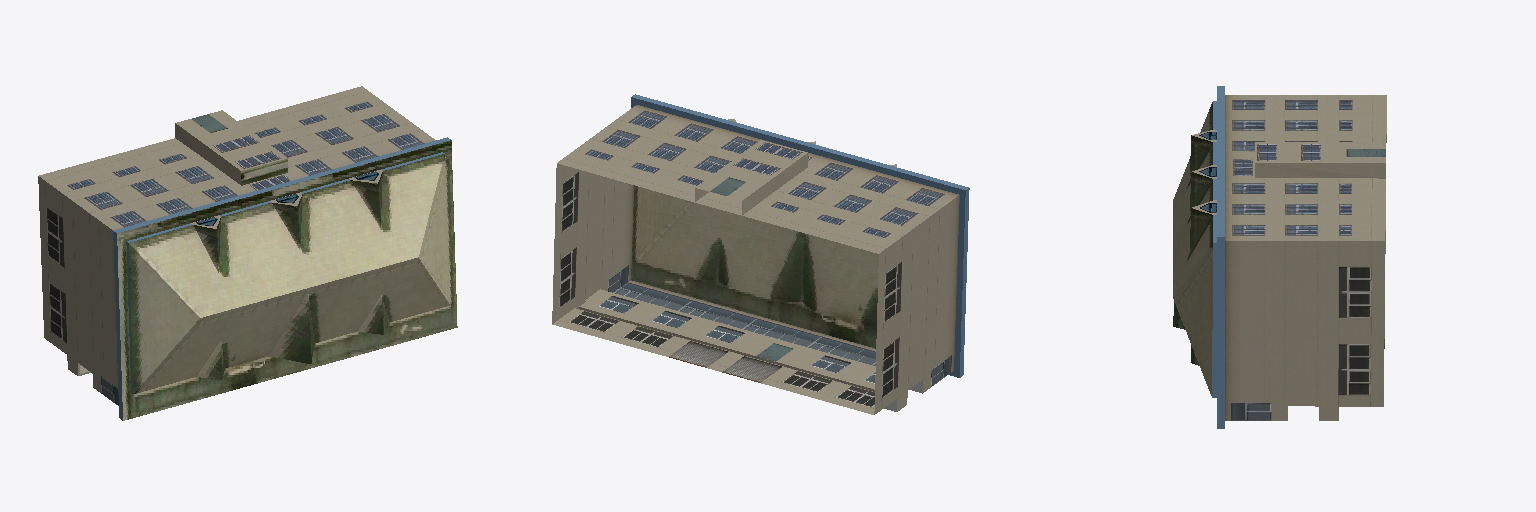
3 views of the same model, side by side, from view 1: azimuth 30°, elevation 25°; view 2: azimuth 150°, elevation 25°; view 3: azimuth 270°, elevation 25° (orthographic).
Visible parts, largest first — view 1: Group_MatrixTransform_i96190_Geometry_17, Group_MatrixTransform_i96190_Geometry_19, Group_MatrixTransform_i96190_Geometry_6, Group_MatrixTransform_i96190_Geometry_9, Group_MatrixTransform_i96190_Geometry_11, Group_MatrixTransform_i96190_Geometry_7, Group_MatrixTransform_i96190_Geometry_8, Group_MatrixTransform_i96190_Geometry_12, Group_MatrixTransform_i96190_Geometry_15, Group_MatrixTransform_i96190_Geometry_14, Group_MatrixTransform_i96190_Geometry_0, Group_MatrixTransform_i96190_Geometry_13 (+2 smaller); view 2: Group_MatrixTransform_i96190_Geometry_19, Group_MatrixTransform_i96190_Geometry_7, Group_MatrixTransform_i96190_Geometry_8, Group_MatrixTransform_i96190_Geometry_6, Group_MatrixTransform_i96190_Geometry_11, Group_MatrixTransform_i96190_Geometry_9, Group_MatrixTransform_i96190_Geometry_12, Group_MatrixTransform_i96190_Geometry_1, Group_MatrixTransform_i96190_Geometry_15, Group_MatrixTransform_i96190_Geometry_3, Group_MatrixTransform_i96190_Geometry_4, Group_MatrixTransform_i96190_Geometry_0 (+3 smaller); view 3: Group_MatrixTransform_i96190_Geometry_7, Group_MatrixTransform_i96190_Geometry_8, Group_MatrixTransform_i96190_Geometry_12, Group_MatrixTransform_i96190_Geometry_17, Group_MatrixTransform_i96190_Geometry_11, Group_MatrixTransform_i96190_Geometry_6, Group_MatrixTransform_i96190_Geometry_9, Group_MatrixTransform_i96190_Geometry_15, Group_MatrixTransform_i96190_Geometry_13, Group_MatrixTransform_i96190_Geometry_14, Group_MatrixTransform_i96190_Geometry_2, Group_MatrixTransform_i96190_Geometry_0 (+2 smaller).
Boxes of the visible parts, box(x1,y1,x2,y2) form: Group_MatrixTransform_i96190_Geometry_17: box(129, 154, 449, 393); Group_MatrixTransform_i96190_Geometry_19: box(117, 140, 457, 420); Group_MatrixTransform_i96190_Geometry_6: box(39, 86, 387, 195); Group_MatrixTransform_i96190_Geometry_9: box(67, 106, 414, 215); Group_MatrixTransform_i96190_Geometry_11: box(93, 125, 435, 230); Group_MatrixTransform_i96190_Geometry_7: box(38, 176, 70, 356); Group_MatrixTransform_i96190_Geometry_8: box(66, 147, 228, 376); Group_MatrixTransform_i96190_Geometry_12: box(93, 216, 117, 387); Group_MatrixTransform_i96190_Geometry_15: box(113, 137, 450, 420); Group_MatrixTransform_i96190_Geometry_14: box(201, 129, 286, 170); Group_MatrixTransform_i96190_Geometry_0: box(176, 110, 246, 140); Group_MatrixTransform_i96190_Geometry_13: box(67, 123, 240, 375); Group_MatrixTransform_i96190_Geometry_19: box(631, 185, 878, 348); Group_MatrixTransform_i96190_Geometry_7: box(552, 164, 906, 414); Group_MatrixTransform_i96190_Geometry_8: box(578, 171, 932, 394); Group_MatrixTransform_i96190_Geometry_6: box(557, 144, 905, 253); Group_MatrixTransform_i96190_Geometry_11: box(611, 105, 958, 213); Group_MatrixTransform_i96190_Geometry_9: box(584, 124, 932, 233); Group_MatrixTransform_i96190_Geometry_12: box(605, 178, 959, 371); Group_MatrixTransform_i96190_Geometry_1: box(579, 290, 875, 389); Group_MatrixTransform_i96190_Geometry_15: box(631, 94, 969, 377); Group_MatrixTransform_i96190_Geometry_3: box(614, 280, 875, 365); Group_MatrixTransform_i96190_Geometry_4: box(660, 338, 789, 384); Group_MatrixTransform_i96190_Geometry_0: box(696, 170, 814, 365); Group_MatrixTransform_i96190_Geometry_7: box(1331, 134, 1386, 406); Group_MatrixTransform_i96190_Geometry_8: box(1278, 178, 1377, 406); Group_MatrixTransform_i96190_Geometry_12: box(1225, 241, 1277, 402); Group_MatrixTransform_i96190_Geometry_17: box(1173, 102, 1212, 395); Group_MatrixTransform_i96190_Geometry_11: box(1225, 95, 1277, 240); Group_MatrixTransform_i96190_Geometry_6: box(1331, 95, 1386, 240); Group_MatrixTransform_i96190_Geometry_9: box(1278, 95, 1331, 240); Group_MatrixTransform_i96190_Geometry_15: box(1212, 86, 1224, 428); Group_MatrixTransform_i96190_Geometry_13: box(1255, 163, 1385, 420); Group_MatrixTransform_i96190_Geometry_14: box(1255, 142, 1334, 162); Group_MatrixTransform_i96190_Geometry_2: box(1225, 403, 1287, 420); Group_MatrixTransform_i96190_Geometry_0: box(1335, 142, 1385, 162).
Size of the model in its own units: 25.34 by 14.53 by 13.78.
Materials: 20 (20 with a texture image).